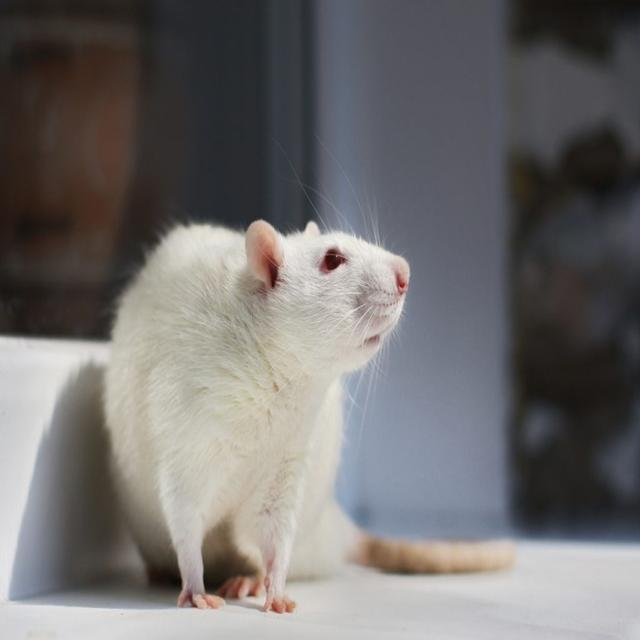rat: (104, 212, 413, 622)
